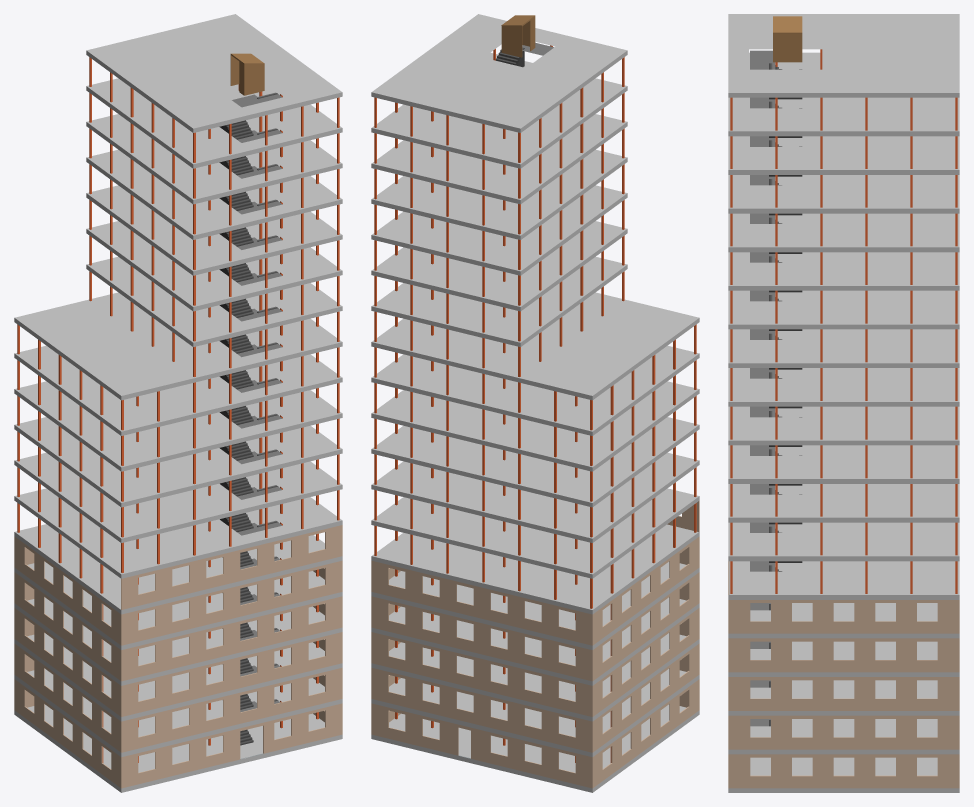
File: building.glb
3 views of the same model, side by side, from view 1: azimuth 30°, elevation 25°; view 2: azimuth 150°, elevation 25°; view 3: azimuth 270°, elevation 25° (orthographic). The views are drawn at different scales.
Visible parts, largest first — view 1: Building, ConstructionTowerAuthoredStairs; view 2: Building; view 3: Building, ConstructionTowerAuthoredStairs.
Boxes of the visible parts, x1=… form: Building: x1=14, y1=14, x2=342, y2=792; ConstructionTowerAuthoredStairs: x1=219, y1=92, x2=282, y2=745; Building: x1=371, y1=14, x2=699, y2=792; Building: x1=728, y1=14, x2=959, y2=792; ConstructionTowerAuthoredStairs: x1=750, y1=50, x2=802, y2=726.
Size of the model in its own units: 16.61 by 48.74 by 13.91.
Materials: 2 (2 with a texture image).
